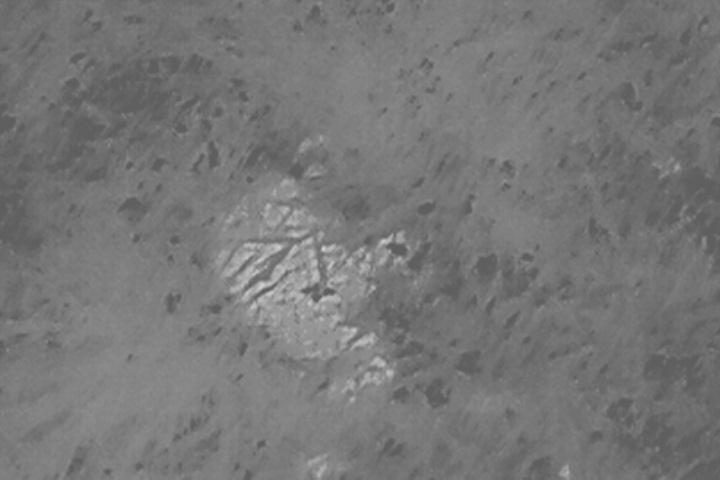landmine: (212, 175, 428, 397)
